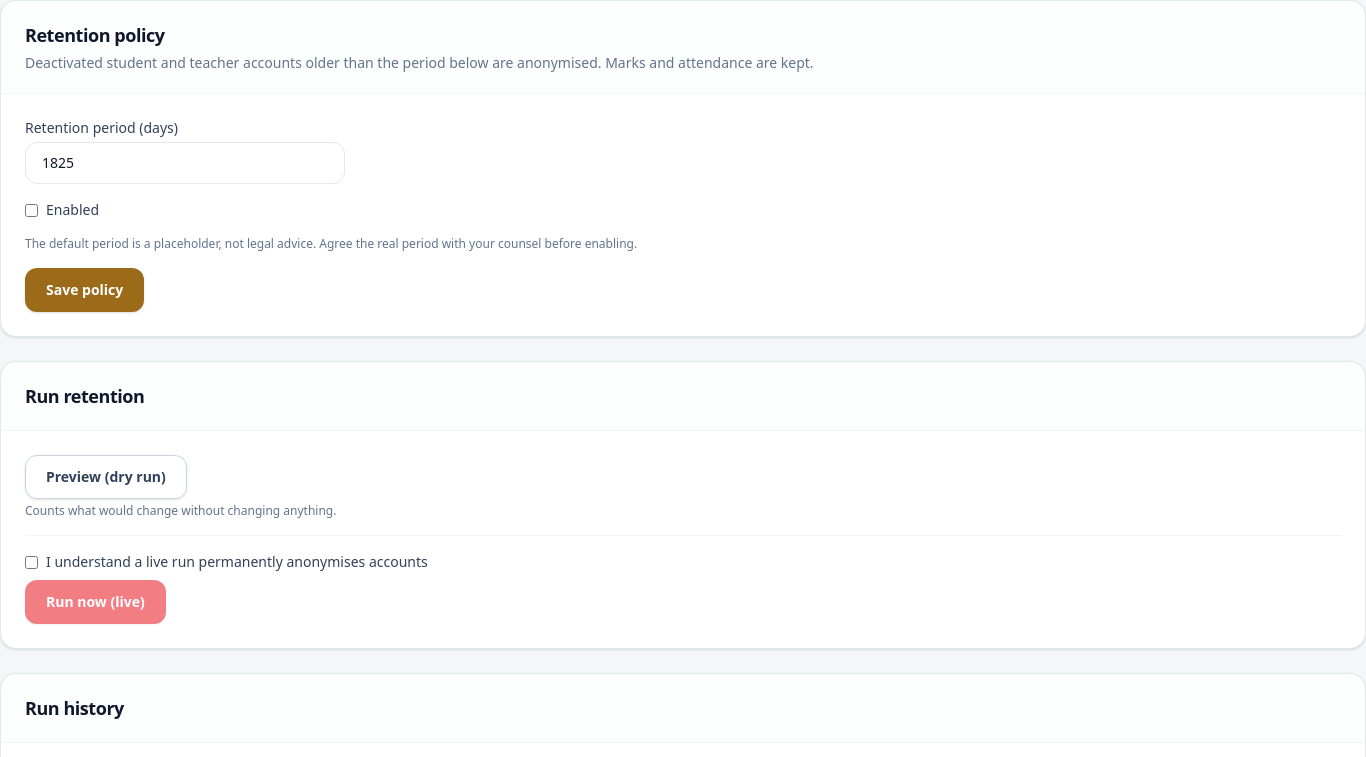
Test case: PrivacyRetentionTab › previews with a dry run and reports how many accounts would change
Click the button "Preview (dry run)" at (106, 477), box [25,455,187,499]
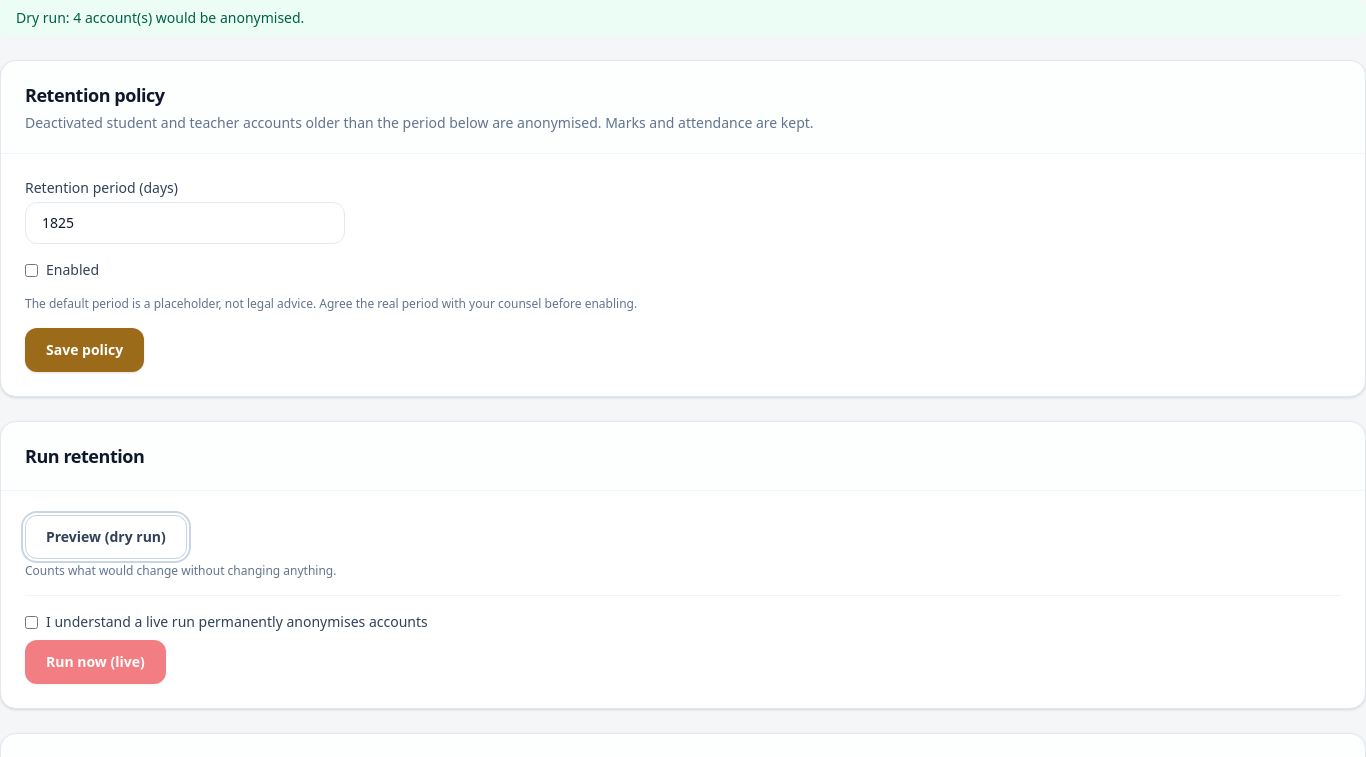
Now the text "Dry run: 4 account(s) would be anonymised." is shown, box [0,0,1365,36]
